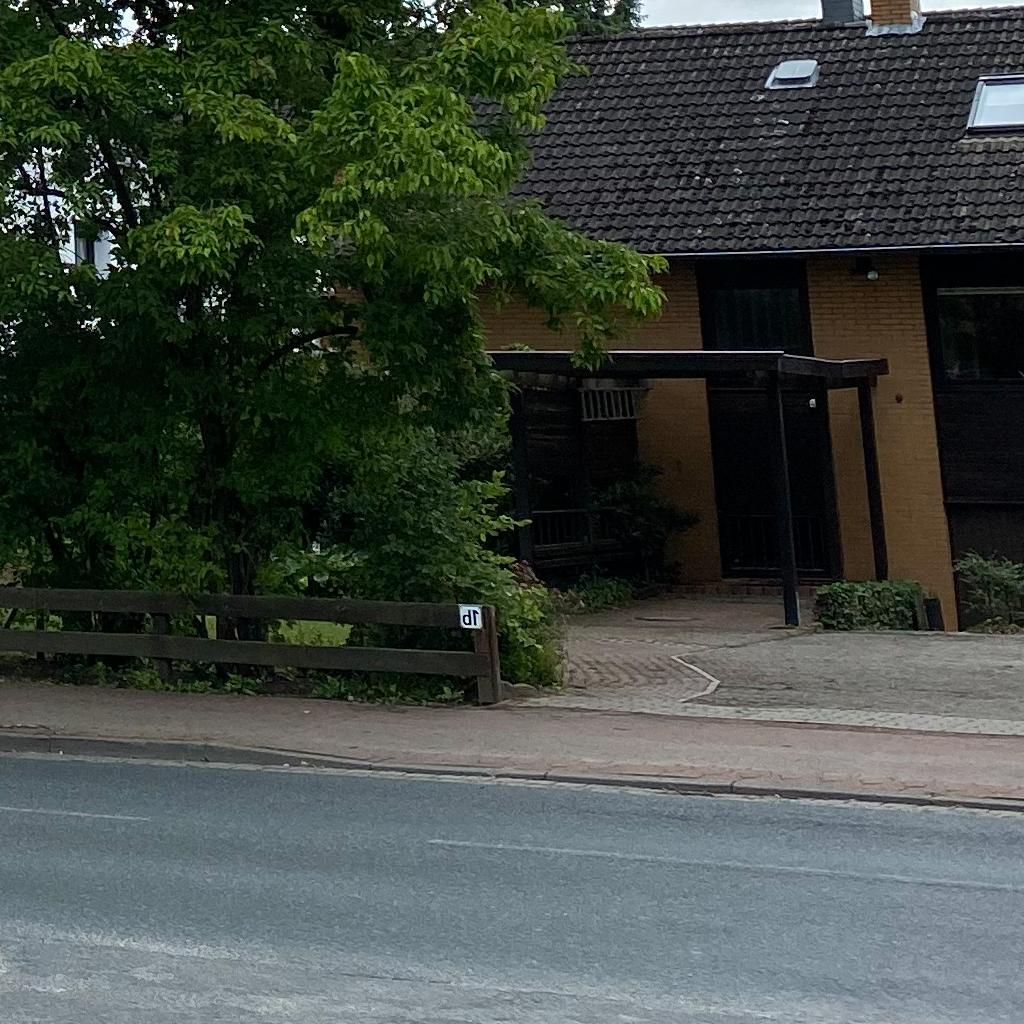tree: (1, 1, 673, 684)
